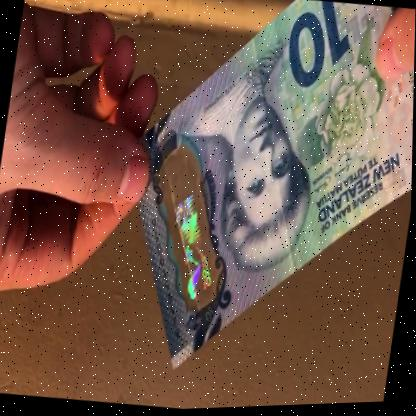10B: (158, 189, 230, 318)
